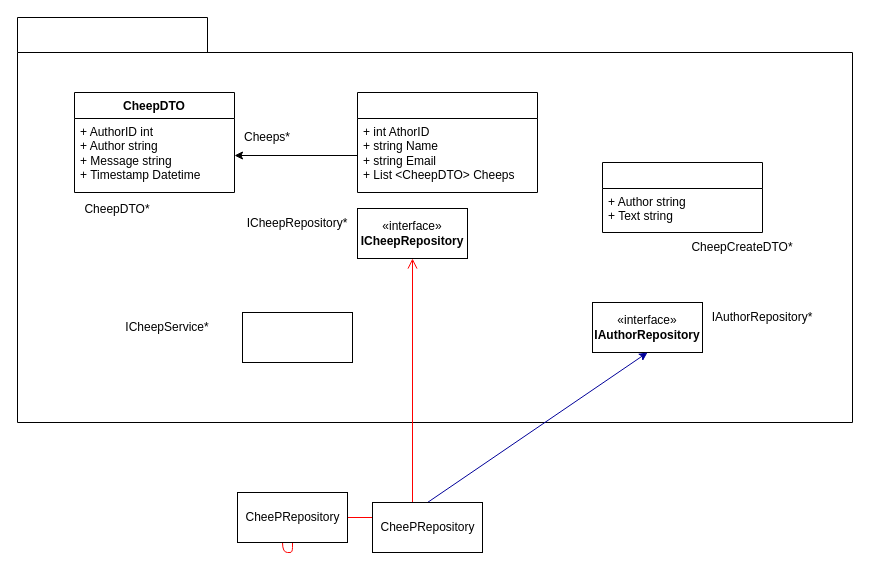
Image size: 870x571. Some labels were removed from this diagram. The shapes that lost their labels are listed below. From the top down, each one's box as (x1, y1, x2, y2) in pixels, then its label:
(356, 92, 538, 192): AuthorDTO
(602, 162, 762, 232): CheepCreateDTO
(242, 312, 352, 362): «interface» ICheepService
